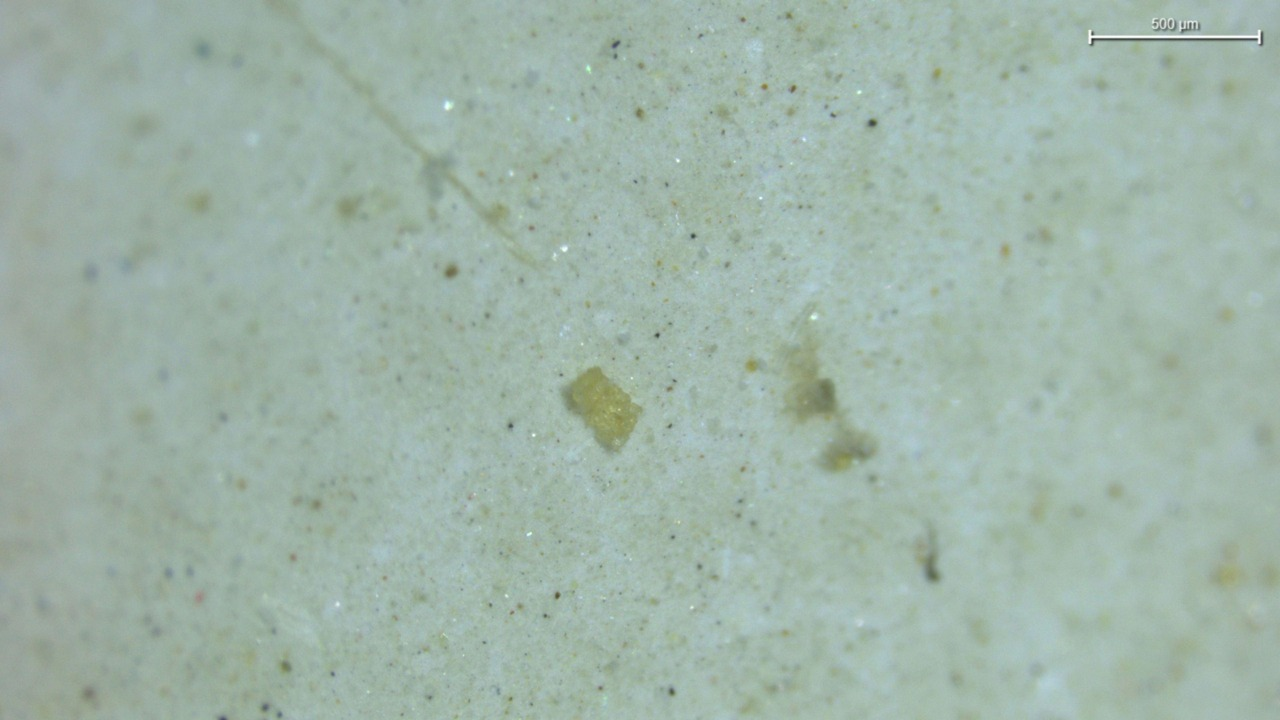microplastic_fragment: (568, 367, 642, 451)
